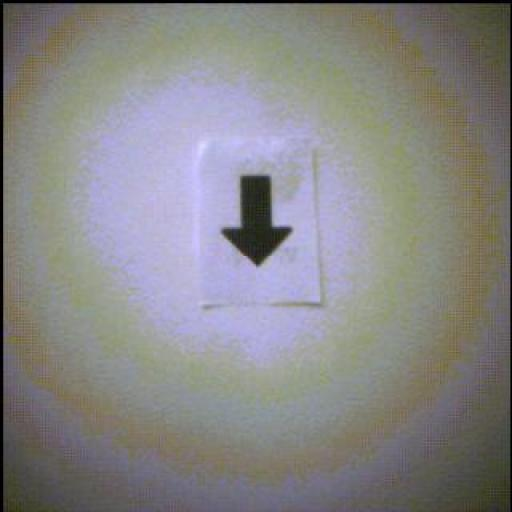arrow: (224, 177, 293, 267)
